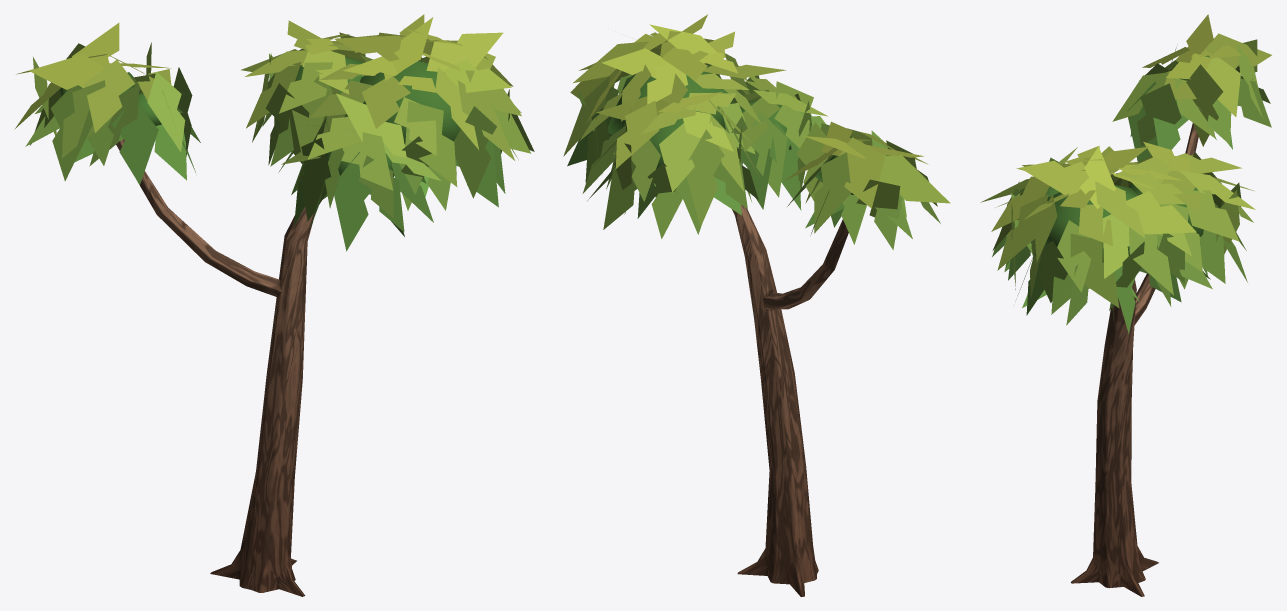
The model's file is tree_sapling_1.glb.
The picture shows the model from 3 angles, left to right: view 1: azimuth 30°, elevation 25°; view 2: azimuth 150°, elevation 25°; view 3: azimuth 270°, elevation 25°; orthographic projection. The views are drawn at different scales.
Parts seen in each view (by area): view 1: tree_sapling_1; view 2: tree_sapling_1; view 3: tree_sapling_1.
Part boxes in pixels (left/top/right/bottom): tree_sapling_1: left=14, top=14, right=534, bottom=596; tree_sapling_1: left=563, top=14, right=950, bottom=596; tree_sapling_1: left=980, top=14, right=1271, bottom=596.
Bounding box in the file's own units: 3.1 × 3.5 × 1.9.
Materials: 2 (2 with a texture image).
